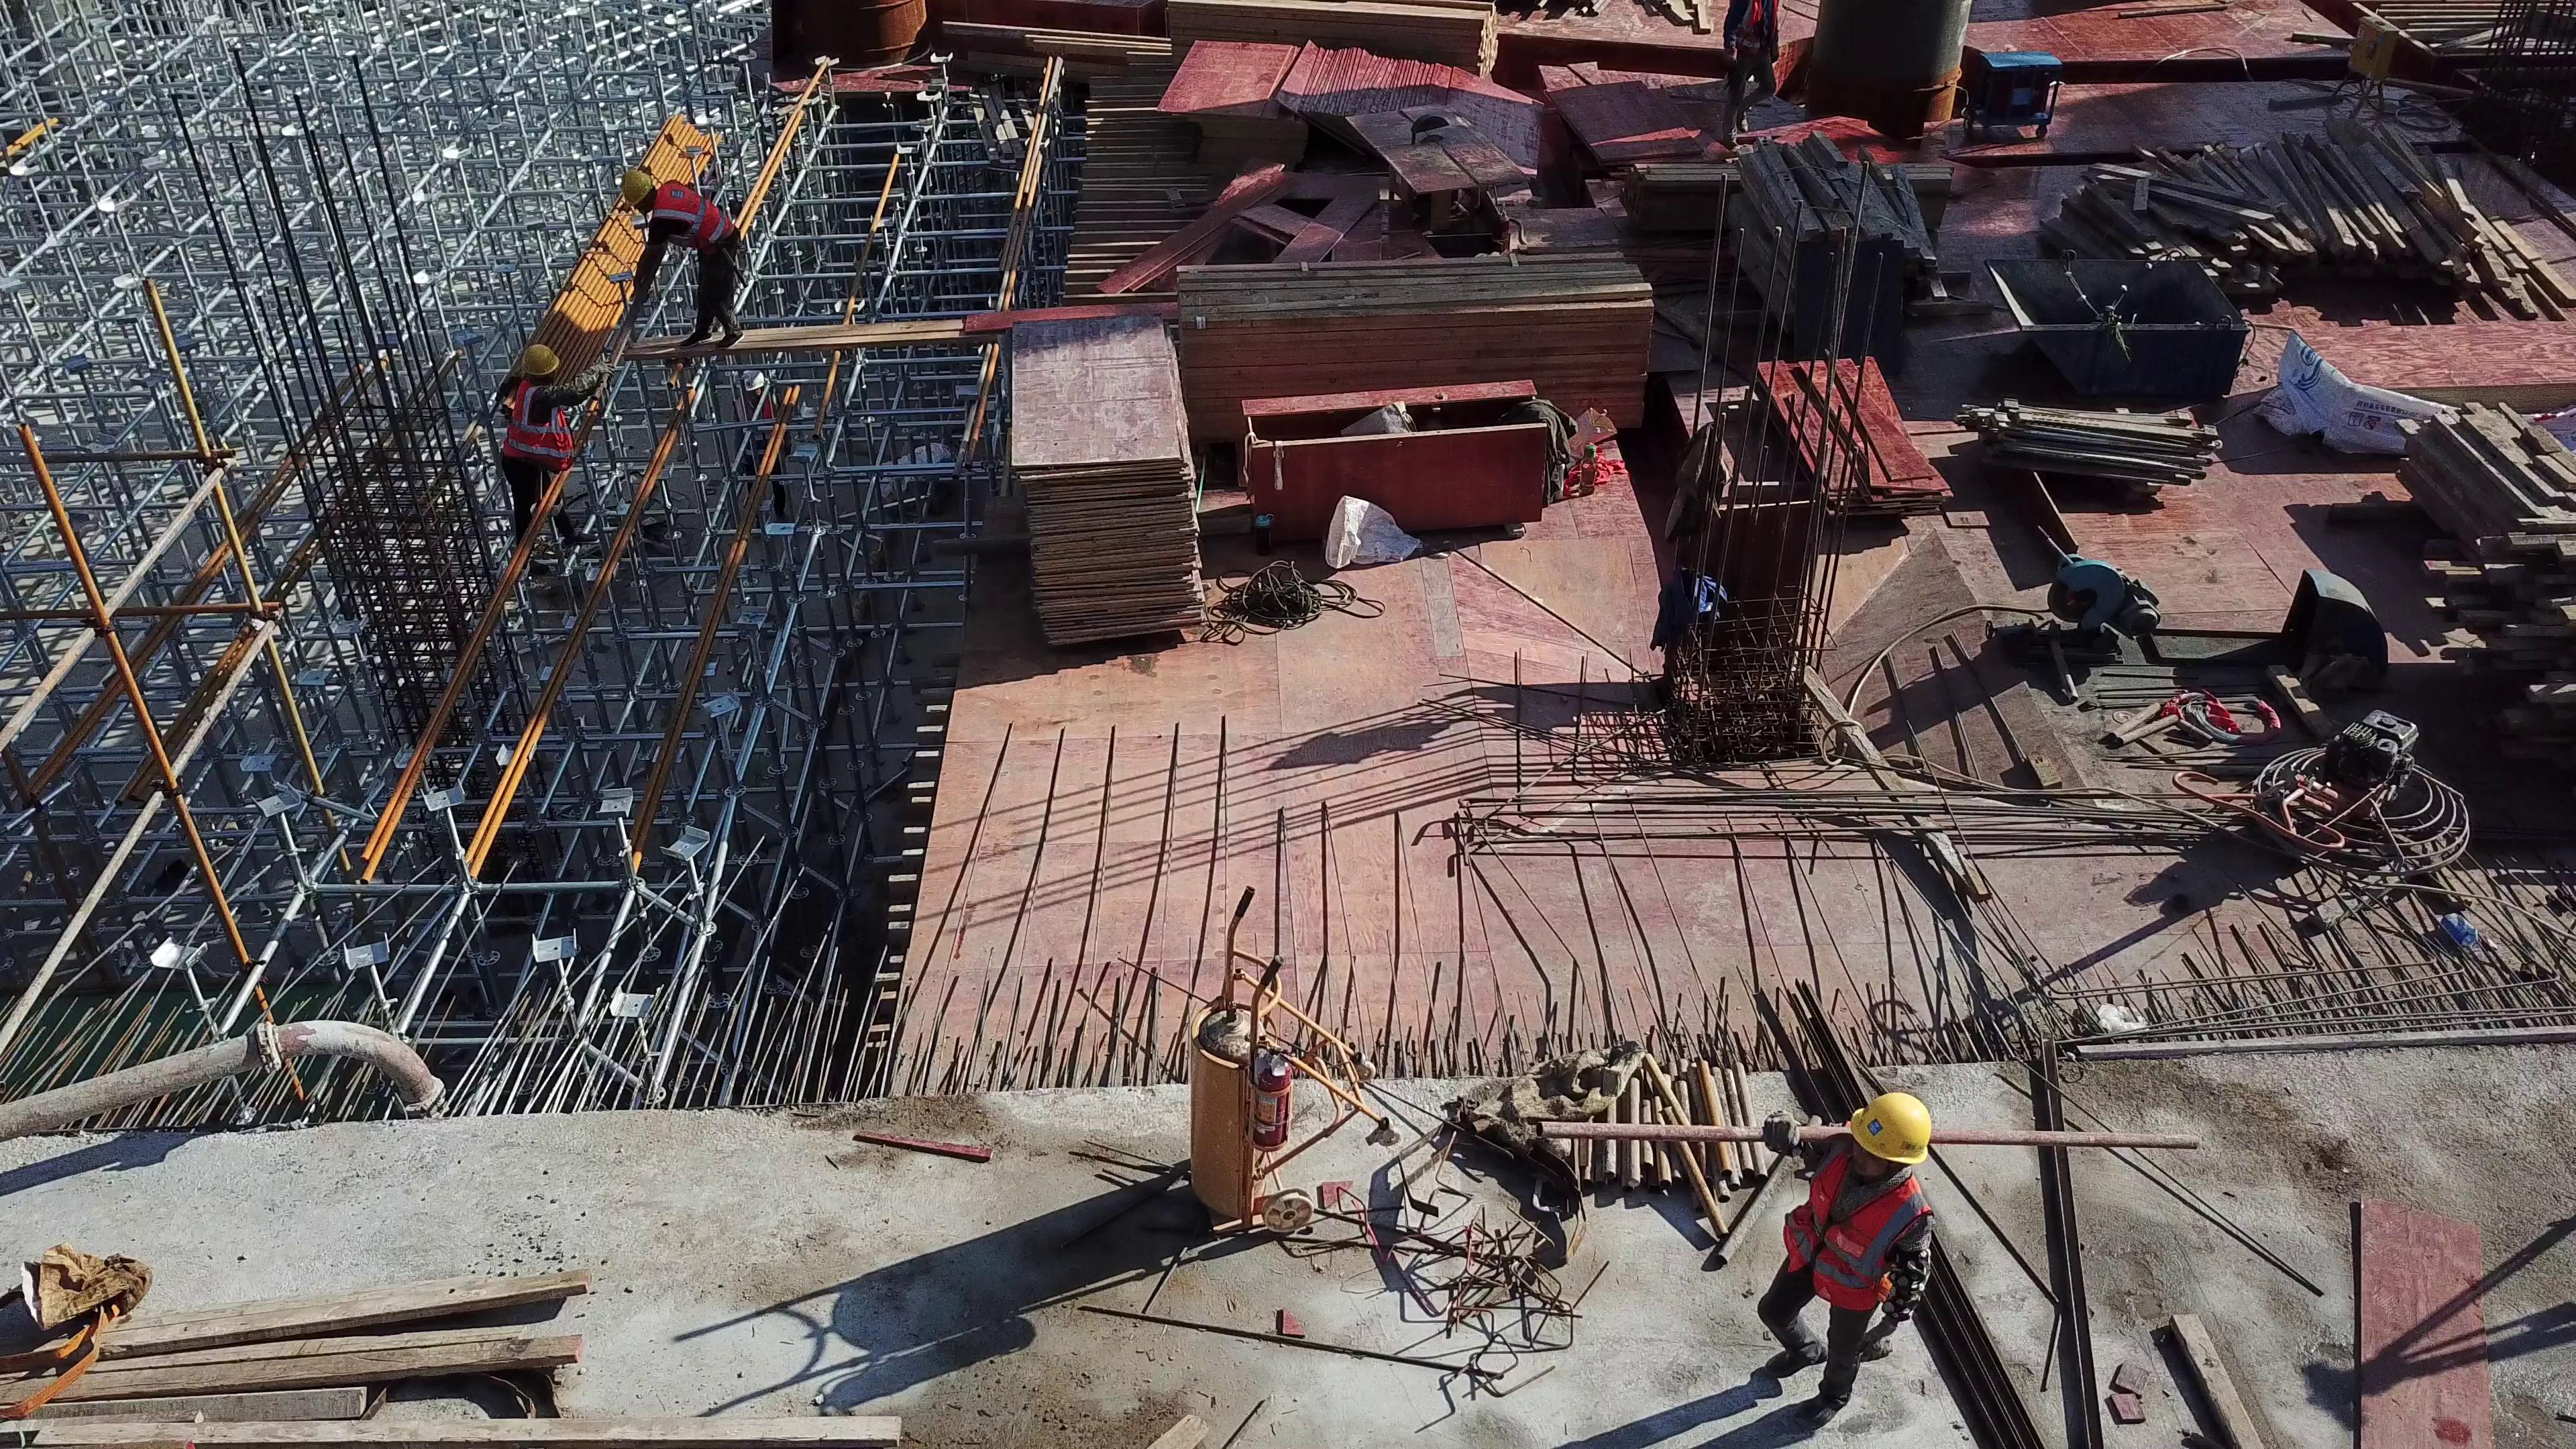board: (1003, 311, 1205, 645), (2255, 321, 2576, 458), (1277, 46, 1536, 171), (1754, 358, 1952, 517), (1157, 44, 1307, 160), (1544, 80, 1715, 164)
cutter: (1991, 520, 2161, 672)
helmet: (1850, 1082, 1935, 1171), (517, 342, 560, 378), (624, 165, 652, 209)
hopper: (1982, 256, 2250, 400)
person: (1758, 1085, 1940, 1417), (617, 164, 744, 351), (497, 335, 607, 546), (1721, 3, 1781, 154)
vest: (1782, 1142, 1932, 1320), (504, 378, 578, 478), (645, 182, 739, 256)
wood: (2042, 113, 2576, 314), (28, 1276, 578, 1449), (1171, 253, 1647, 424), (2416, 548, 2576, 769), (2393, 393, 2554, 539)
